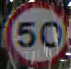Speed limit: (5, 2, 70, 65)
